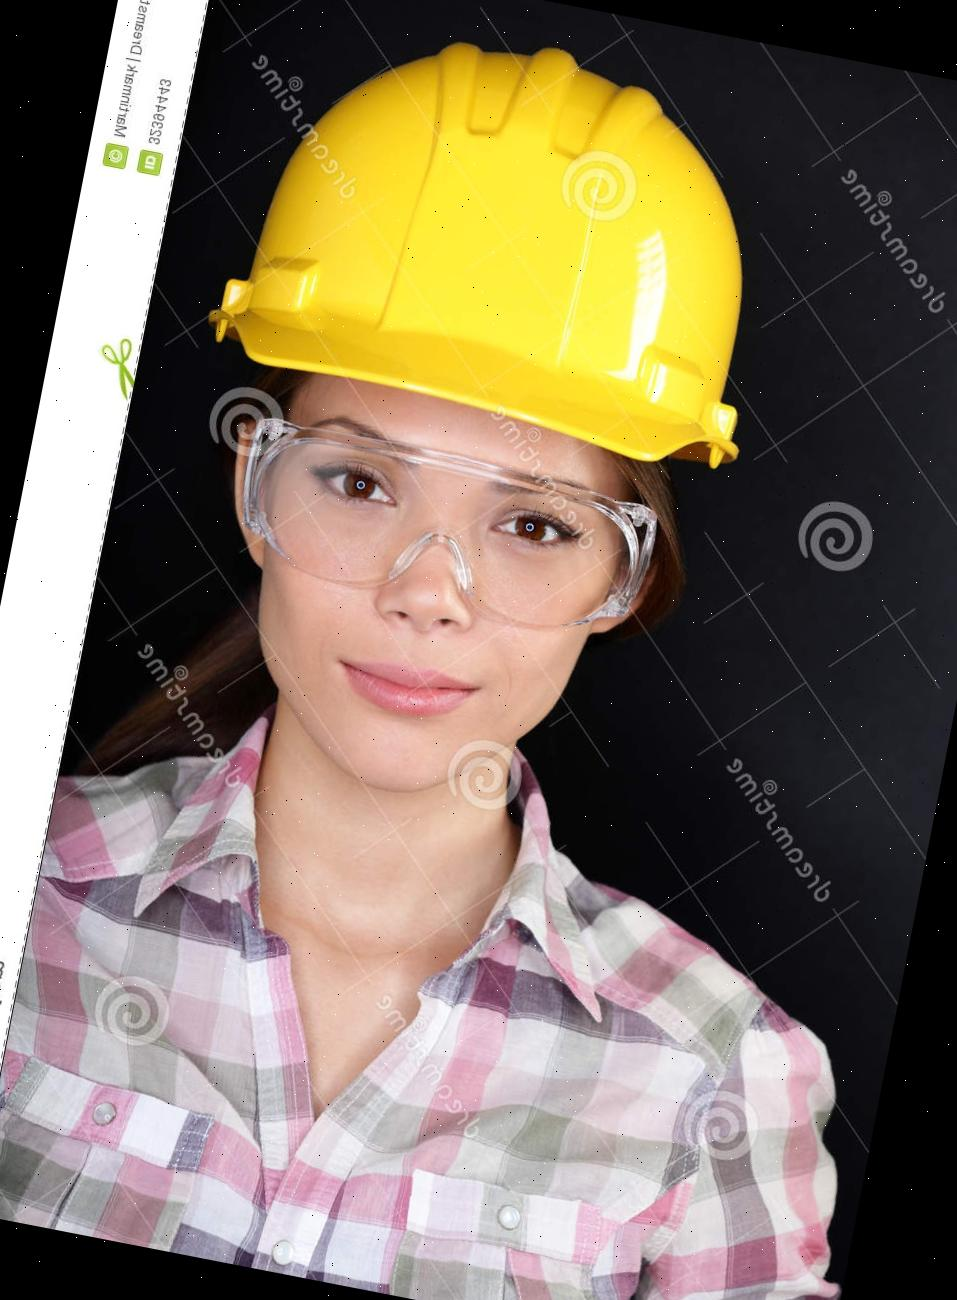helmet: (206, 0, 805, 485)
no_wear: (0, 769, 901, 1300)
